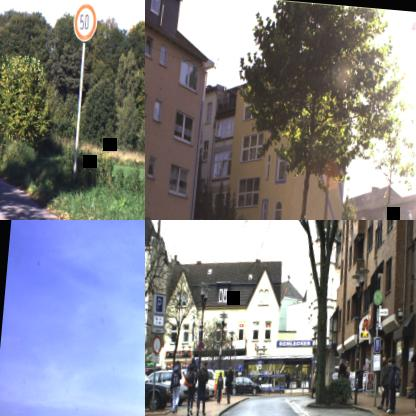no traffic both ways: (151, 334, 163, 355)
speed limit 50: (72, 2, 98, 43)
